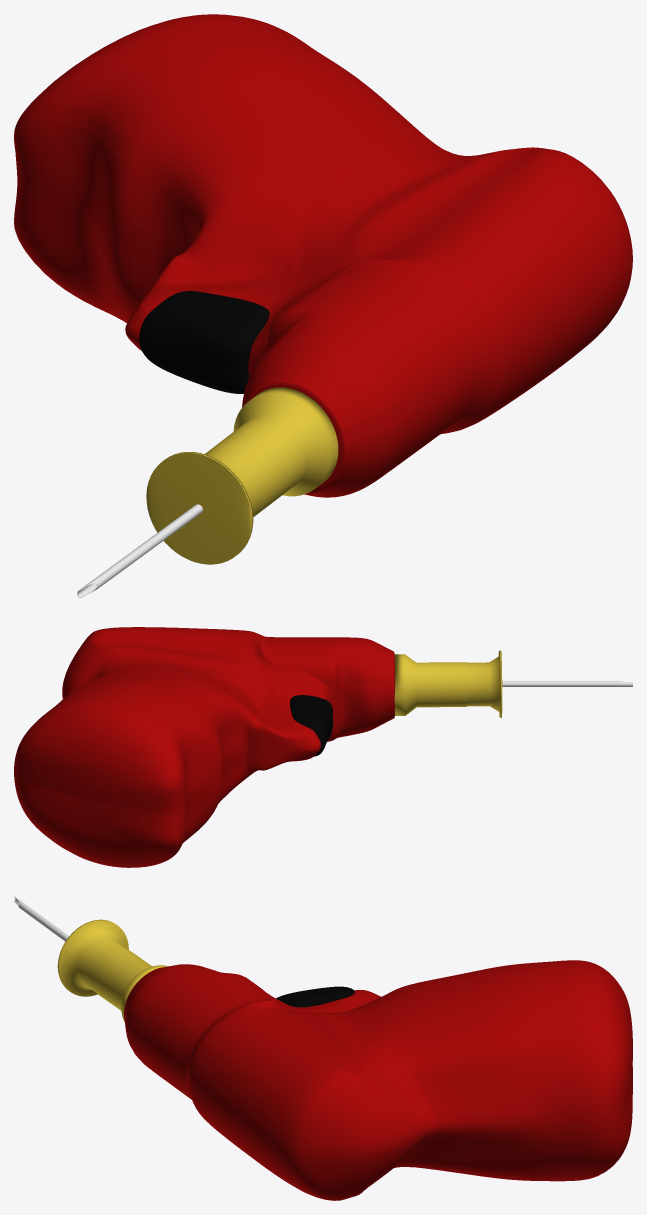
File: TaladroFBX.fbx
3 views of the same model, one above another, from view 1: azimuth 30°, elevation 25°; view 2: azimuth 150°, elevation 25°; view 3: azimuth 270°, elevation 25° (orthographic). The views are drawn at different scales.
Visible parts, largest first — view 1: Taladro, Conector1, Botón, Aguja1; view 2: Taladro, Conector1, Botón, Aguja1; view 3: Taladro, Conector1, Botón, Aguja1.
Boxes of the visible parts, x1,y1,x2,y2 form: Taladro: [14, 14, 632, 497]; Conector1: [146, 387, 338, 564]; Botón: [139, 291, 269, 393]; Aguja1: [77, 504, 202, 598]; Taladro: [14, 627, 394, 867]; Conector1: [394, 650, 502, 717]; Botón: [290, 695, 332, 756]; Aguja1: [502, 681, 632, 686]; Taladro: [124, 960, 632, 1200]; Conector1: [57, 919, 167, 1022]; Botón: [276, 986, 354, 1007]; Aguja1: [14, 896, 68, 941].
Size of the model in its own units: 44.28 by 15.62 by 45.51.
